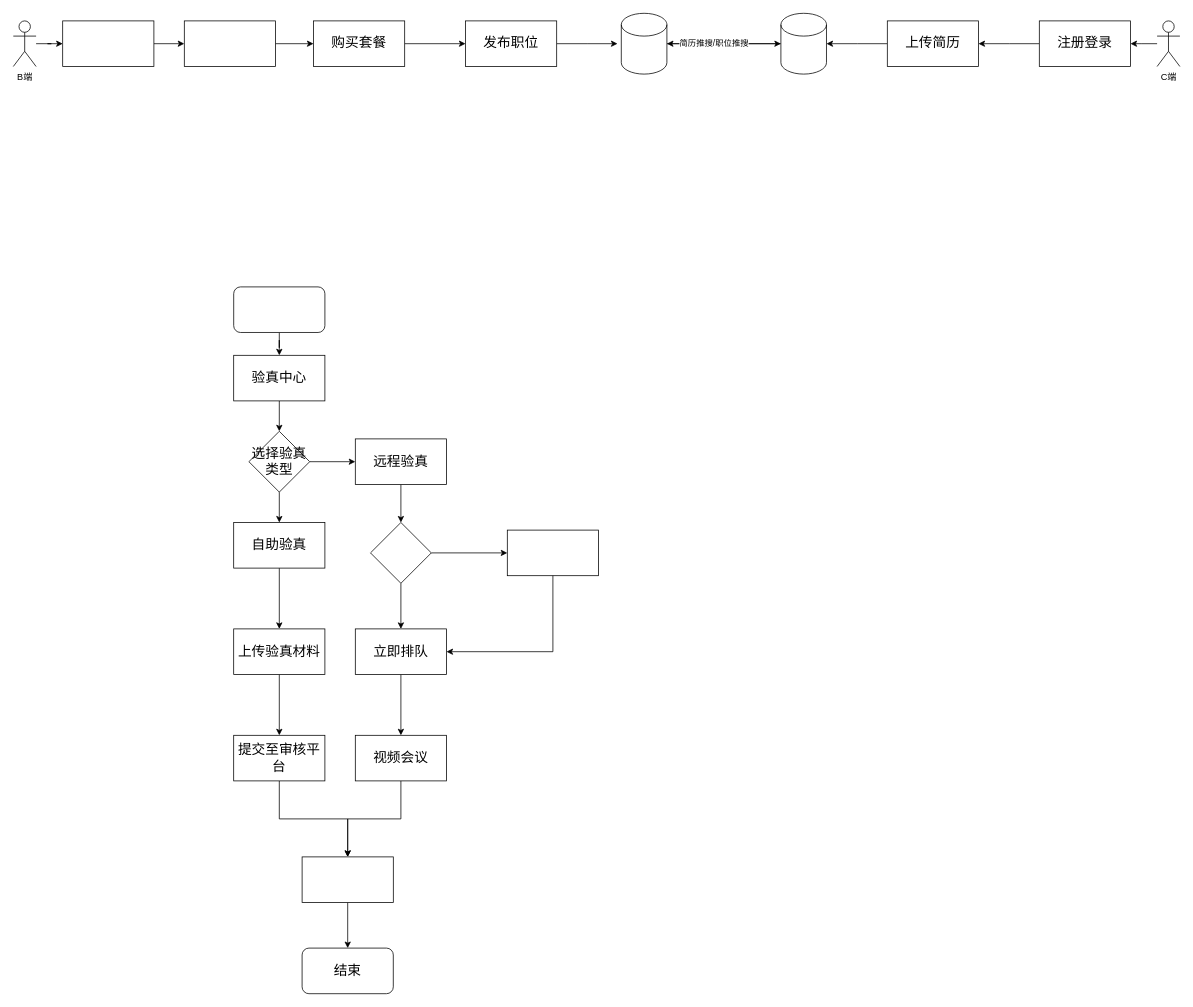
Some shapes in this 1193 by 1007 pixel diagram are drawn without their labels. Here are the shapes that lost their labels. From the top down, the centre of each, then its label:
the point at 108,43: 注册、登录
the point at 230,43: 认证
the point at 644,43: 职位库
the point at 803,43: 简历库
the point at 279,309: 开始
the point at 400,552: 选择时间
the point at 552,552: 预约
the point at 347,879: 审核
